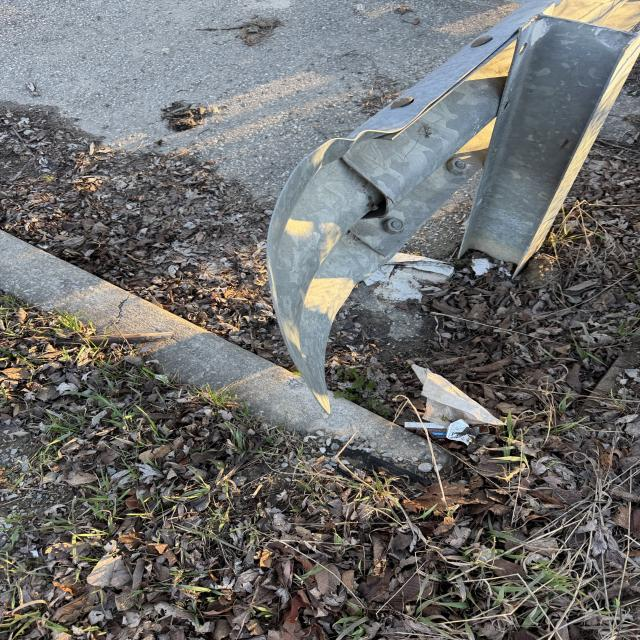Guard rail: (277, 33, 639, 302)
